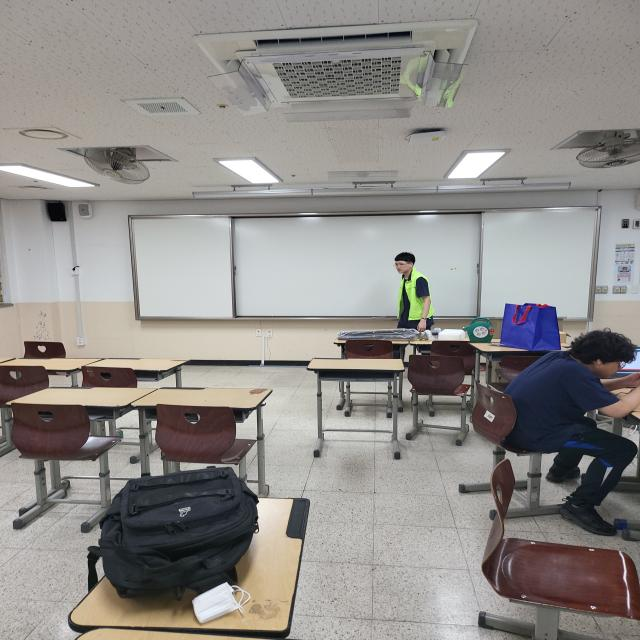weston_spy: (395, 263, 439, 329)
